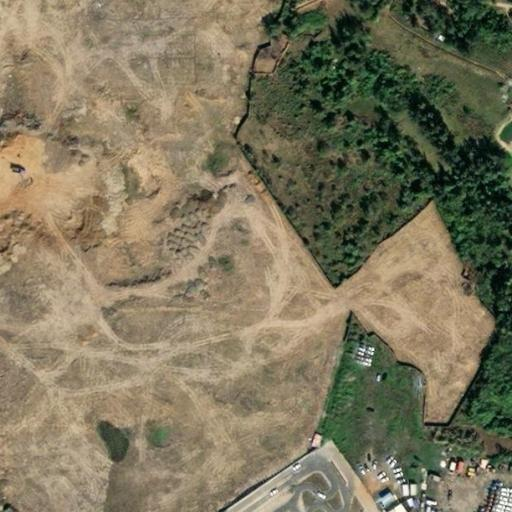building: (249, 23, 288, 73), (378, 463, 390, 481), (372, 491, 387, 505), (385, 500, 401, 512), (370, 440, 383, 452), (400, 482, 411, 496), (417, 487, 433, 495), (449, 458, 457, 473), (419, 481, 434, 489), (392, 482, 401, 495), (377, 506, 389, 512), (398, 499, 406, 508), (411, 500, 417, 508), (405, 498, 410, 507), (418, 496, 423, 501)
